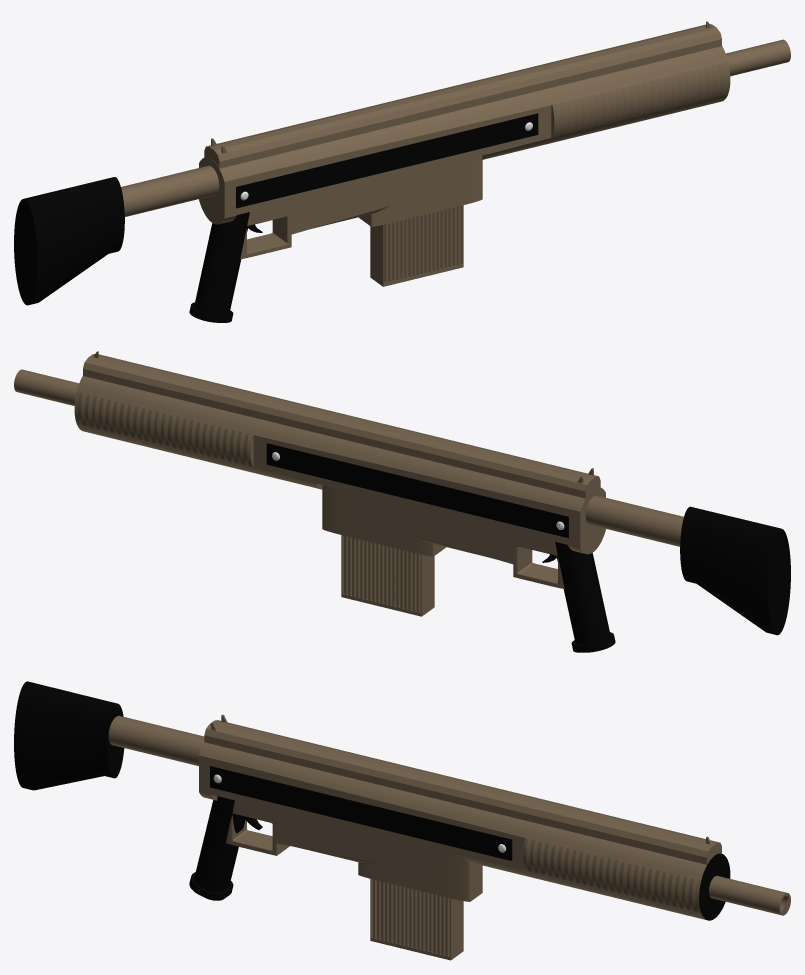
The model's file is karabin2.fbx.
The picture shows the model from 3 angles, top to bottom: view 1: azimuth 30°, elevation 25°; view 2: azimuth 150°, elevation 25°; view 3: azimuth 330°, elevation 25°; orthographic projection.
Parts seen in each view (by area): view 1: Walec.001, Kostka, Walec.002, Kostka.001, Kostka.004, Kostka.003, Kostka.002, Walec.003, Walec; view 2: Walec.001, Kostka, Walec.002, Kostka.001, Kostka.005, Kostka.003, Kostka.002, Walec.003, Walec; view 3: Walec.001, Kostka, Kostka.001, Walec.002, Kostka.004, Kostka.003, Kostka.002, Walec.003, Walec.
Part boxes in pixels (box(x1,y1,x2,y2)): Walec.001: box(199, 46, 730, 224); Kostka: box(204, 24, 721, 168); Walec.002: box(14, 177, 124, 305); Kostka.001: box(240, 155, 482, 259); Kostka.004: box(236, 113, 538, 208); Kostka.003: box(370, 205, 463, 286); Kostka.002: box(189, 212, 249, 322); Walec.003: box(121, 165, 219, 216); Walec: box(726, 39, 790, 76); Walec.001: box(74, 376, 605, 554); Kostka: box(83, 354, 600, 498); Walec.002: box(680, 506, 790, 635); Kostka.001: box(322, 485, 564, 588); Kostka.005: box(266, 443, 568, 538); Kostka.003: box(341, 535, 434, 616); Kostka.002: box(555, 542, 615, 652); Walec.003: box(585, 495, 683, 546); Walec: box(14, 369, 78, 405); Walec.001: box(199, 742, 730, 920); Kostka: box(204, 720, 721, 864); Kostka.001: box(226, 800, 482, 901); Walec.002: box(14, 681, 124, 790); Kostka.004: box(210, 766, 512, 860); Kostka.003: box(370, 879, 463, 960); Kostka.002: box(189, 796, 245, 900); Walec.003: box(108, 715, 204, 765); Walec: box(709, 875, 790, 915).
Size of the model in its own units: 7550 by 1706 by 555.
